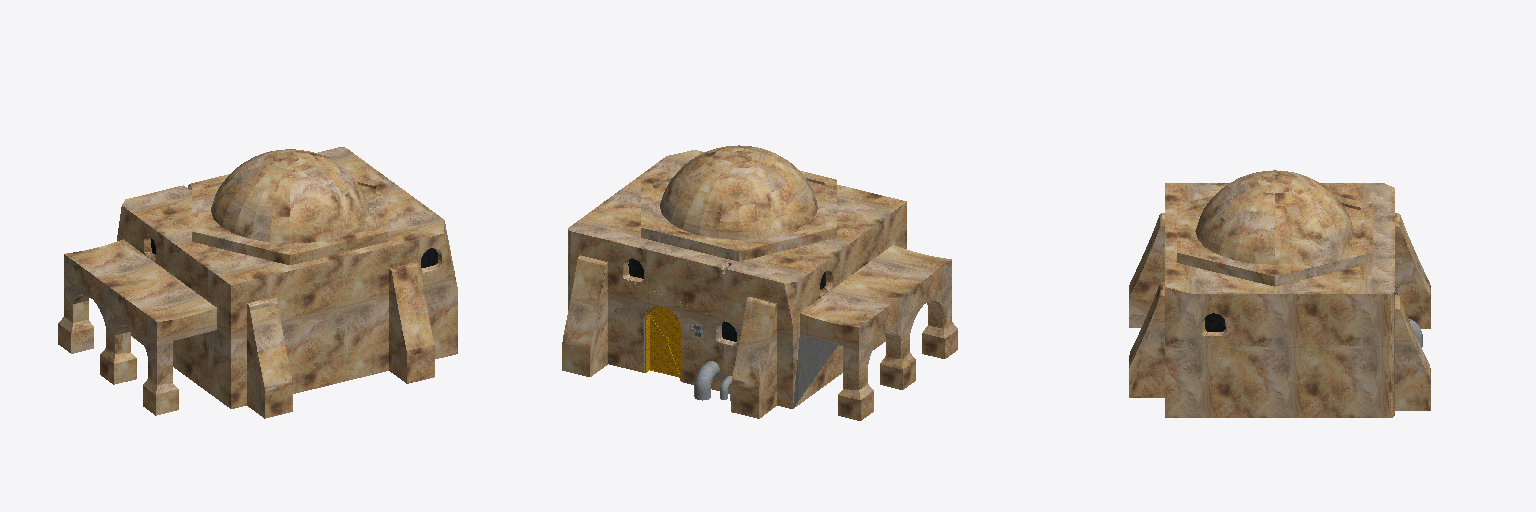
3 renders of one model, left to right at view 1: azimuth 30°, elevation 25°; view 2: azimuth 150°, elevation 25°; view 3: azimuth 270°, elevation 25°, orthographic.
Visible parts, largest first — view 1: Object001, 1; view 2: Object001, 1; view 3: Object001, 1.
Boxes of the visible parts, x1=… form: Object001: x1=64, y1=147, x2=457, y2=408; 1: x1=58, y1=277, x2=292, y2=418; Object001: x1=562, y1=145, x2=951, y2=408; 1: x1=648, y1=283, x2=957, y2=420; Object001: x1=1129, y1=170, x2=1430, y2=417; 1: x1=1129, y1=213, x2=1430, y2=347.
Bounding box in the file's own units: 45.79 × 27.62 × 41.16.
Materials: 14 (5 with a texture image).